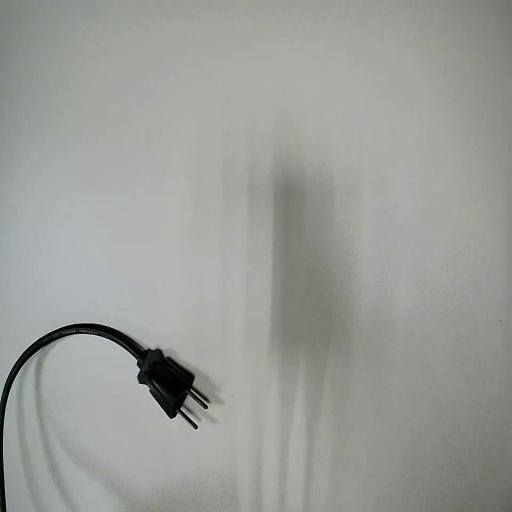wire: (0, 324, 207, 511)
